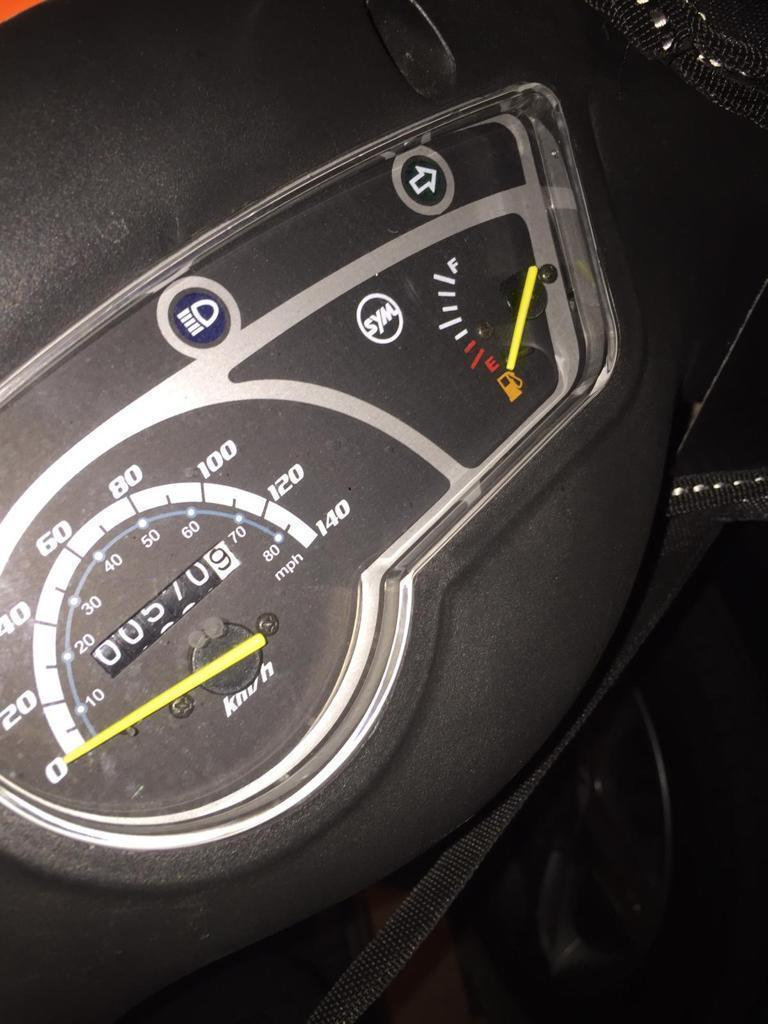0: (116, 618, 145, 646), (94, 640, 121, 667), (184, 561, 210, 586), (110, 552, 123, 566), (89, 596, 103, 608), (83, 632, 94, 647), (149, 529, 161, 542)
3: (80, 603, 92, 615)
4: (103, 559, 115, 572)
5: (135, 598, 167, 624), (139, 535, 153, 549)
7: (156, 578, 183, 603), (227, 530, 238, 546)
9: (207, 546, 234, 574)
odometer: (86, 534, 247, 683)
